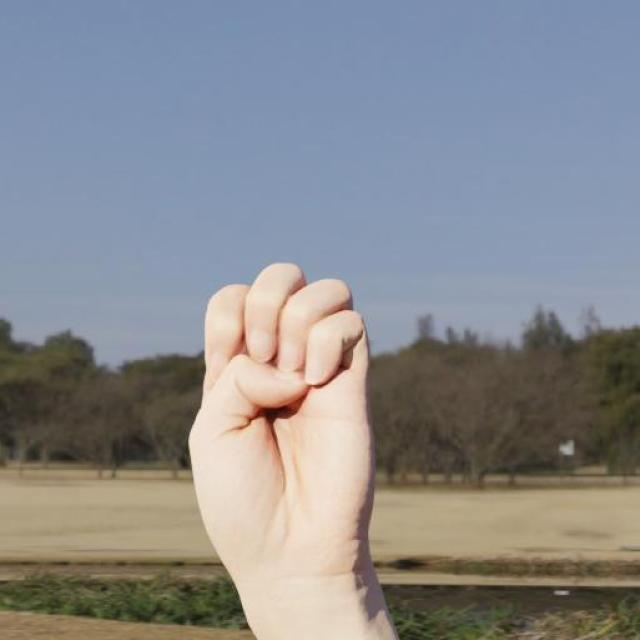E: (183, 255, 382, 580)
